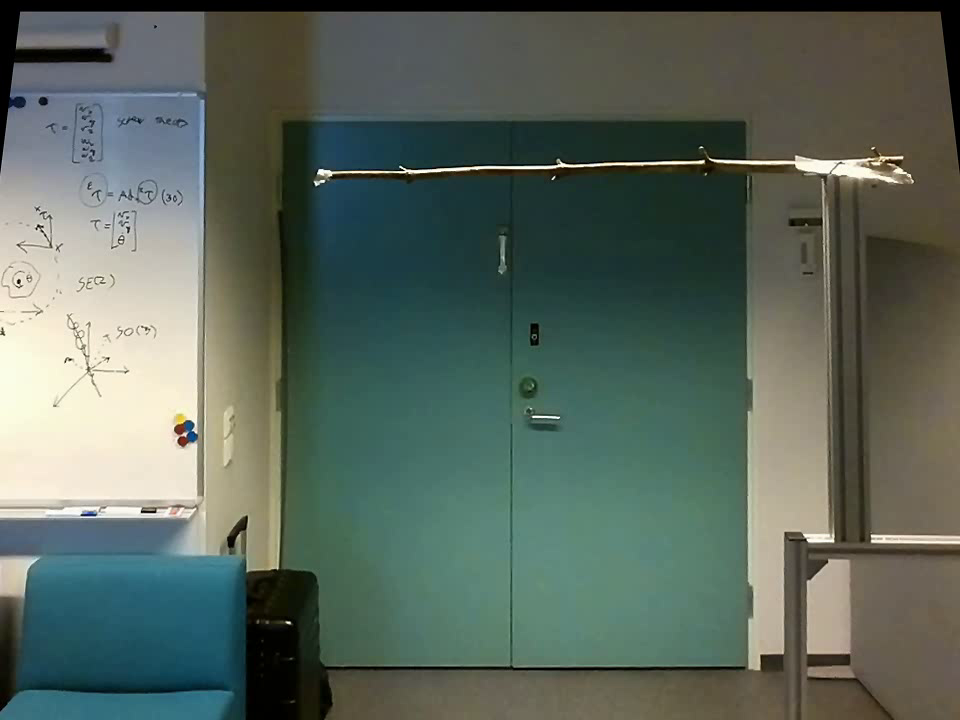aluminum_frame: (816, 178, 876, 543), (190, 88, 211, 507), (1, 495, 205, 532), (805, 527, 959, 571), (779, 532, 813, 718), (6, 87, 213, 101)
branch: (333, 137, 796, 189)
